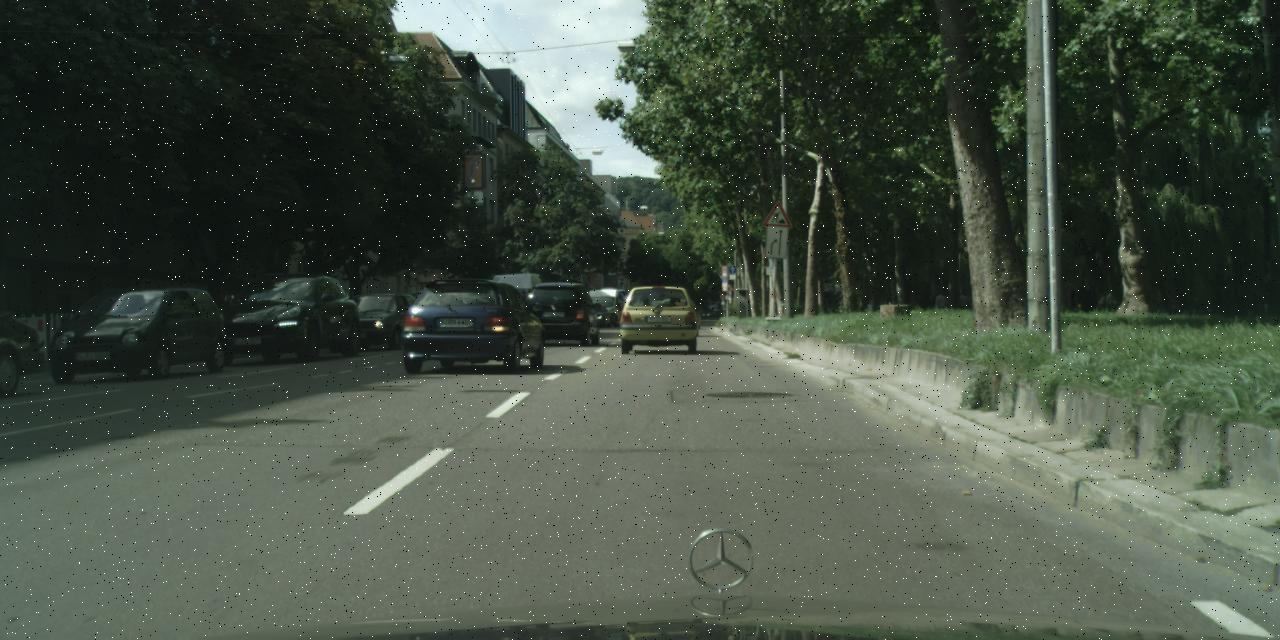ped: (1076, 278, 1098, 330), (932, 290, 946, 322), (955, 291, 967, 321), (864, 299, 874, 325)
